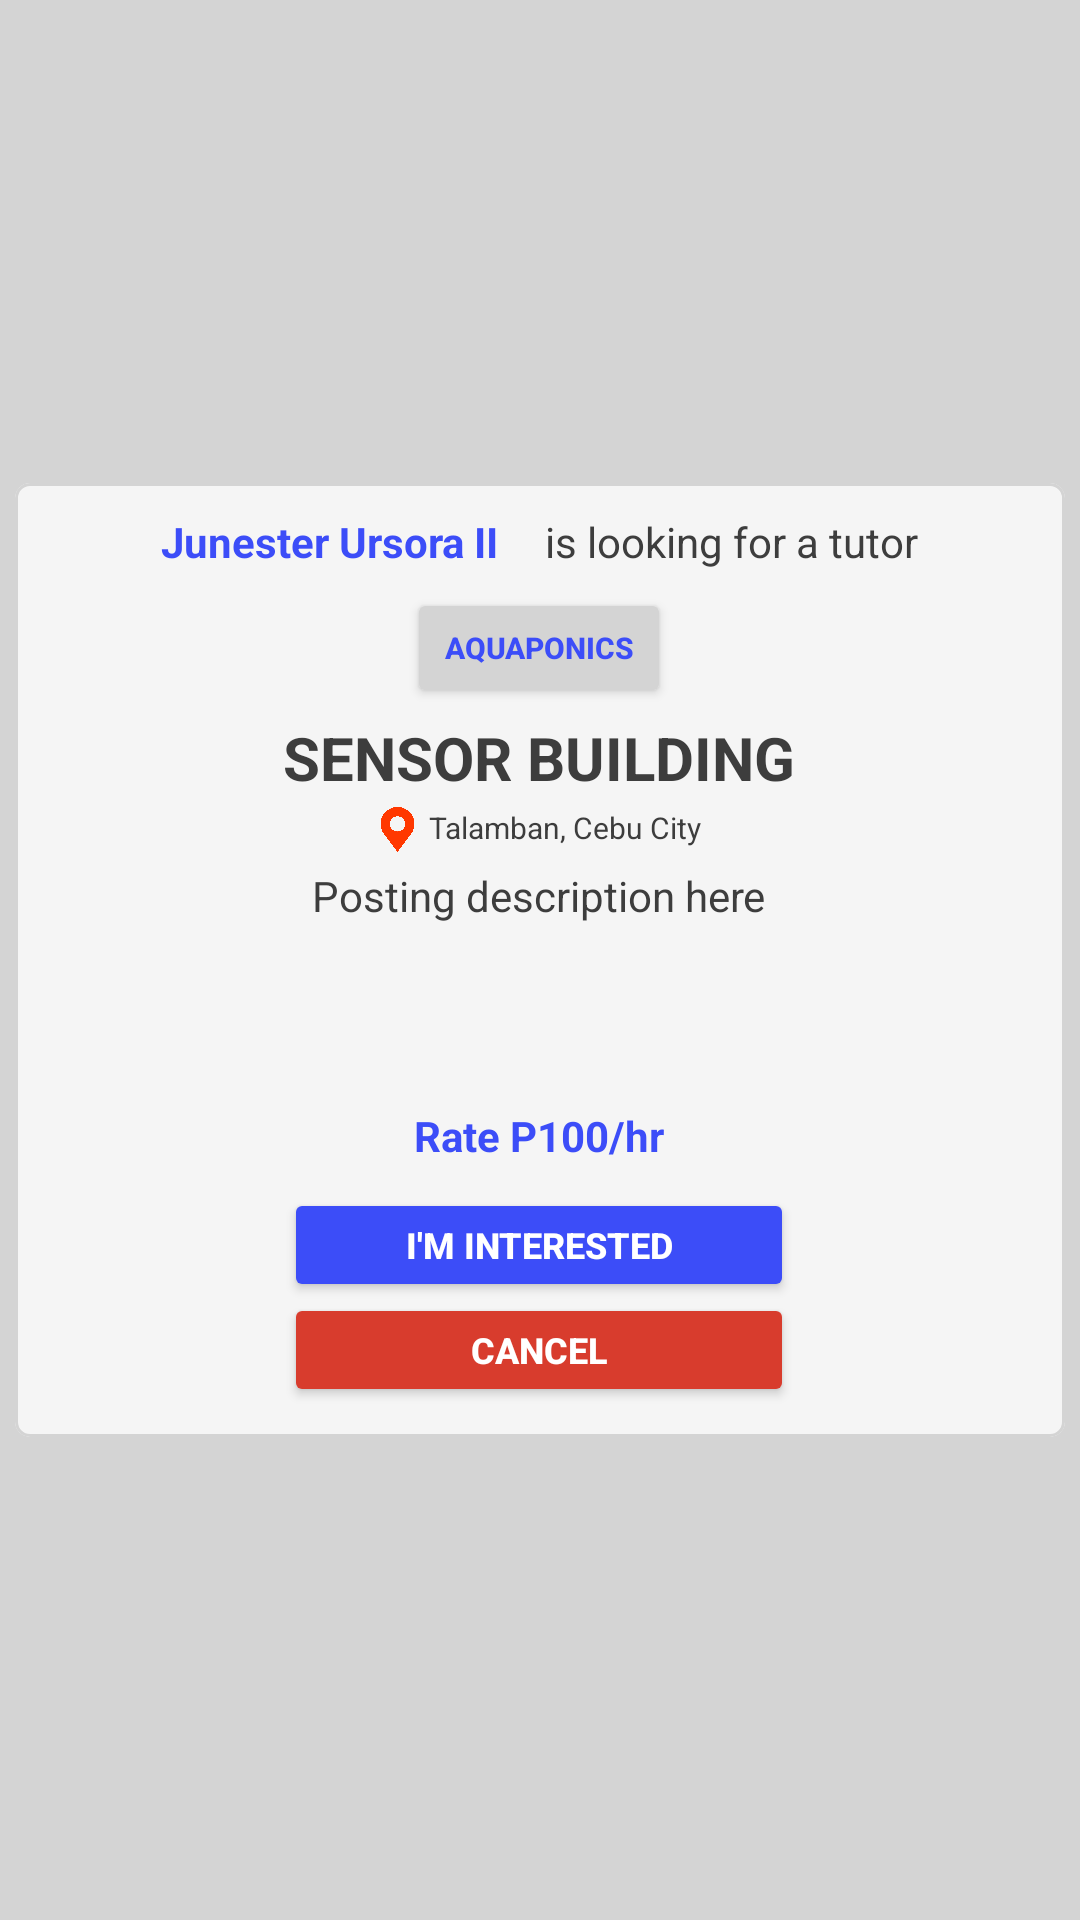

Screen size 1080px×1920px. Icon name, then its box in pixels as (left=x1, top=y1, right=x2, bottom=y2):
map pin: (left=381, top=807, right=414, bottom=852)
